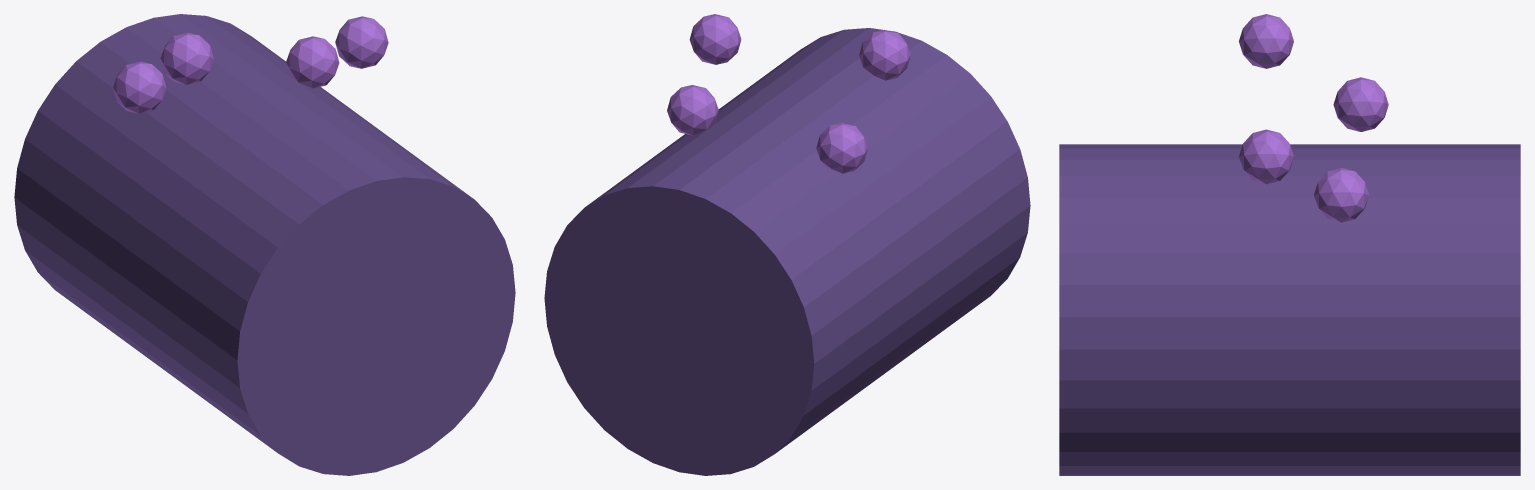
The model's file is supreme_spawn.glb.
3 views of the same model, side by side, from view 1: azimuth 30°, elevation 25°; view 2: azimuth 150°, elevation 25°; view 3: azimuth 270°, elevation 25° (orthographic). The views are drawn at different scales.
Visible parts, largest first — view 1: geometry_0; view 2: geometry_0; view 3: geometry_0.
Part boxes in pixels (box(x1,y1,x2,y2)): geometry_0: box(14, 14, 515, 475); geometry_0: box(544, 14, 1030, 475); geometry_0: box(1059, 14, 1520, 475).
Bounding box in the file's own units: 0.72 × 0.9549 × 1.
